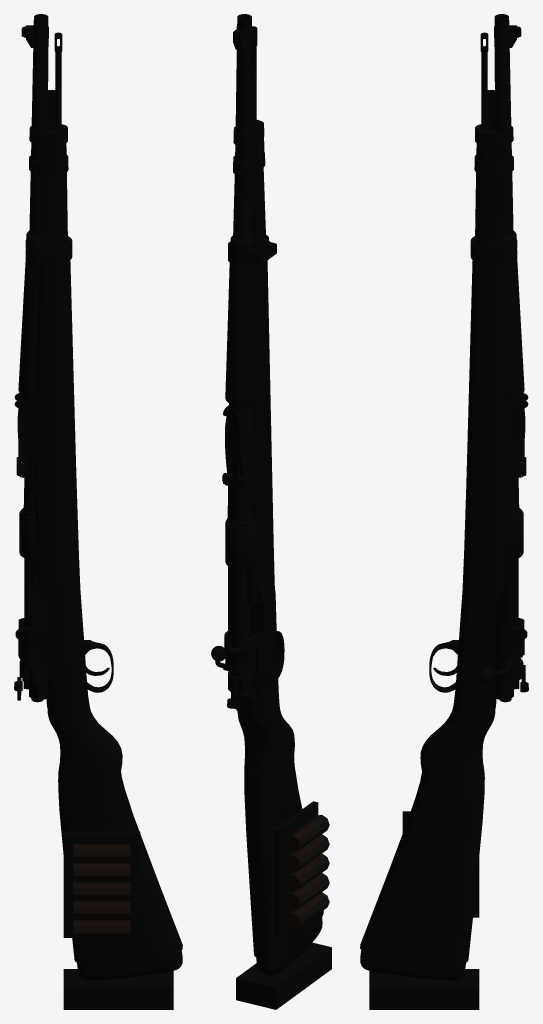
Rendered from Kar98k__RecoilPad_Rubber__ShellHolder_Butt.fbx.
The picture shows the model from 3 angles, left to right: view 1: azimuth 90°, elevation 25°; view 2: azimuth 150°, elevation 25°; view 3: azimuth 270°, elevation 25°; orthographic projection.
Visible parts, largest first — view 1: asset_Kar98k.001; view 2: asset_Kar98k.001; view 3: asset_Kar98k.001.
Part boxes in pixels (left/top/right/bottom): asset_Kar98k.001: left=14, top=14, right=182, bottom=1009; asset_Kar98k.001: left=211, top=14, right=331, bottom=1009; asset_Kar98k.001: left=360, top=14, right=528, bottom=1009.
Bounding box in the file's own units: 0.0573 × 0.681 × 0.1059.
